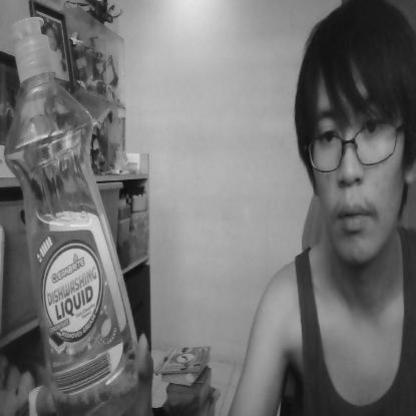Plastic Bottle: (1, 6, 146, 416)
